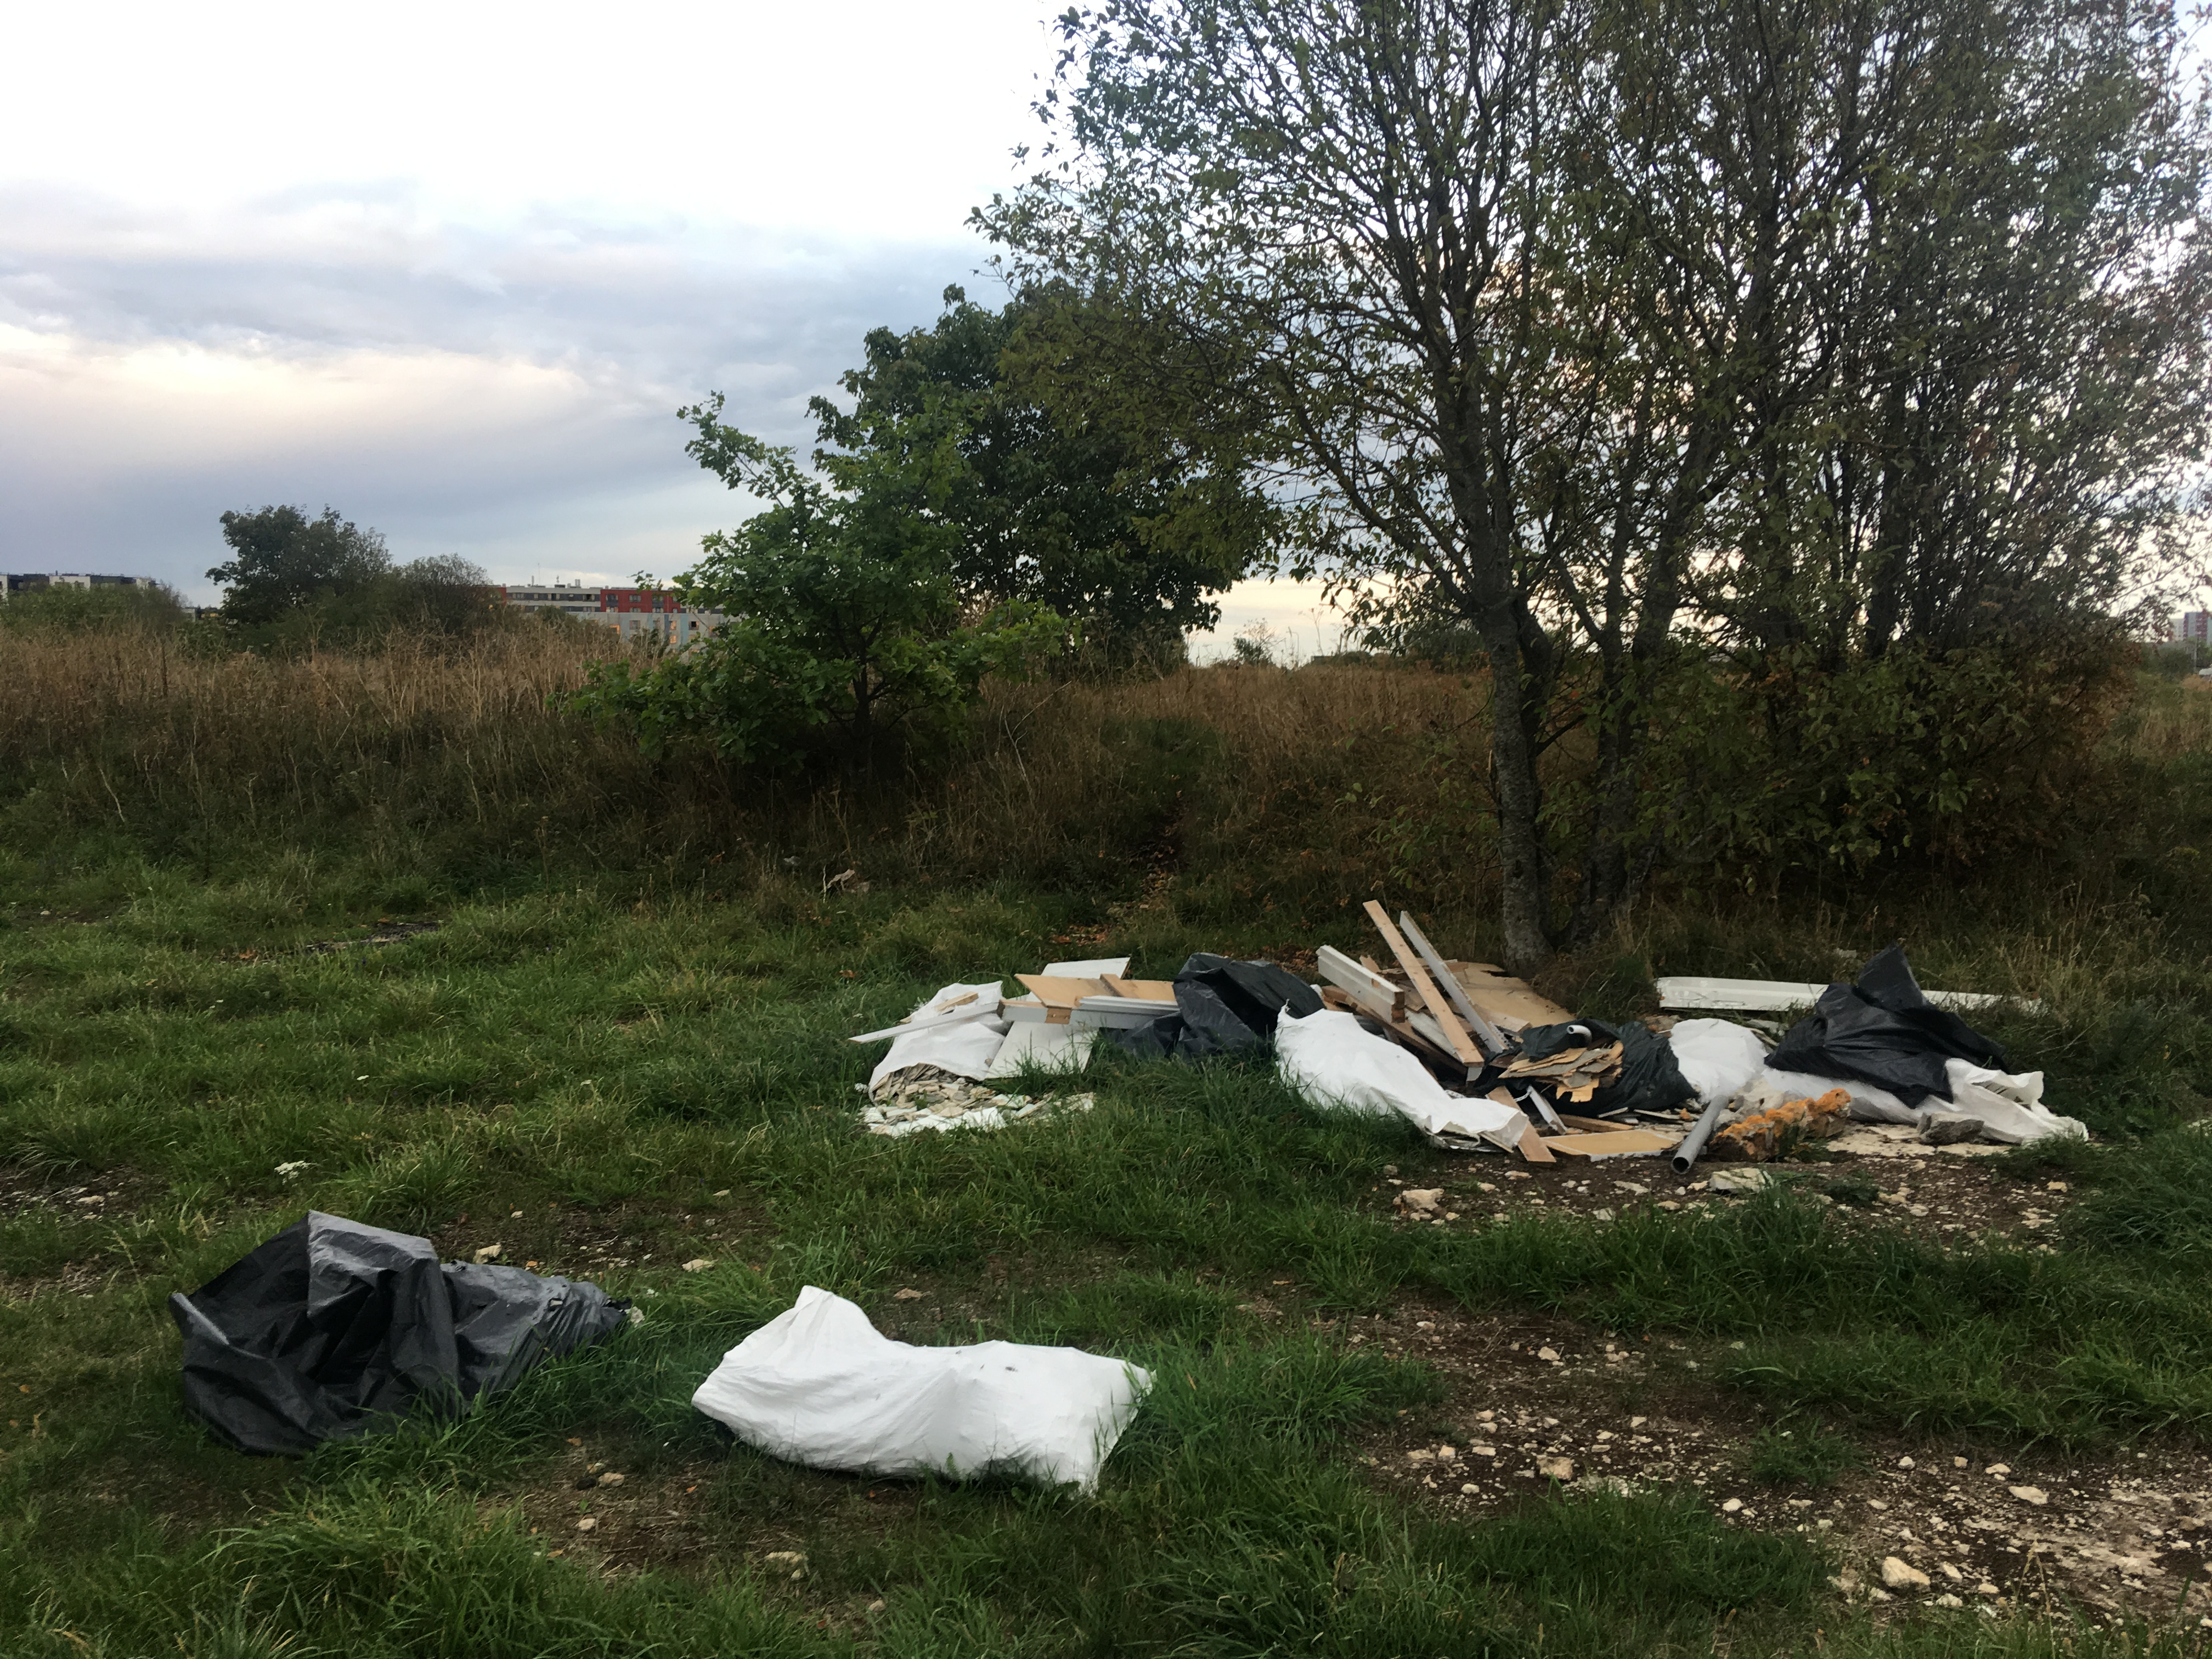trash: (826, 882, 2113, 1204), (152, 1161, 604, 1441), (662, 1290, 1211, 1476)
